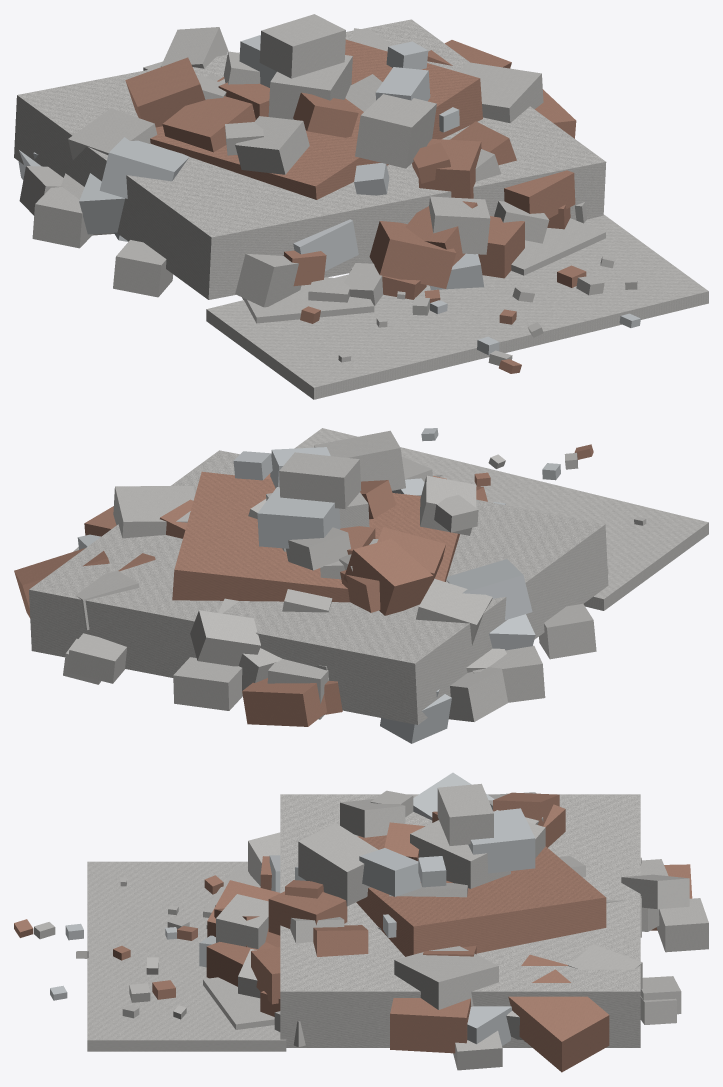
File: demolition-and-site-clearance-demolition-and-site-clea-748c4f33__35680.glb
3 views of the same model, one above another, from view 1: azimuth 30°, elevation 25°; view 2: azimuth 150°, elevation 25°; view 3: azimuth 270°, elevation 25° (orthographic). The views are drawn at different scales.
Parts seen in each view (by area): view 1: demolition-and-site-clearance-crusher-feed-pile; view 2: demolition-and-site-clearance-crusher-feed-pile; view 3: demolition-and-site-clearance-crusher-feed-pile.
Part boxes in pixels (box(x1,y1,x2,y2)): demolition-and-site-clearance-crusher-feed-pile: box(14, 14, 708, 399); demolition-and-site-clearance-crusher-feed-pile: box(14, 428, 708, 743); demolition-and-site-clearance-crusher-feed-pile: box(14, 772, 708, 1072).
Size of the model in its own units: 4.4 by 1.43 by 5.59.
3 materials, 2 textured.
